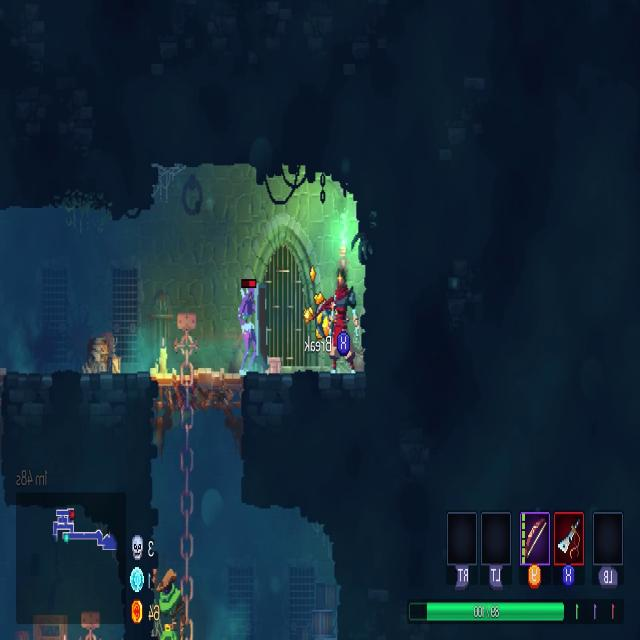agents: (328, 274, 358, 380)
enemy_archer: (154, 568, 178, 639)
enemy_purple_shield: (240, 284, 272, 375)
wood_floor: (150, 370, 244, 411)
